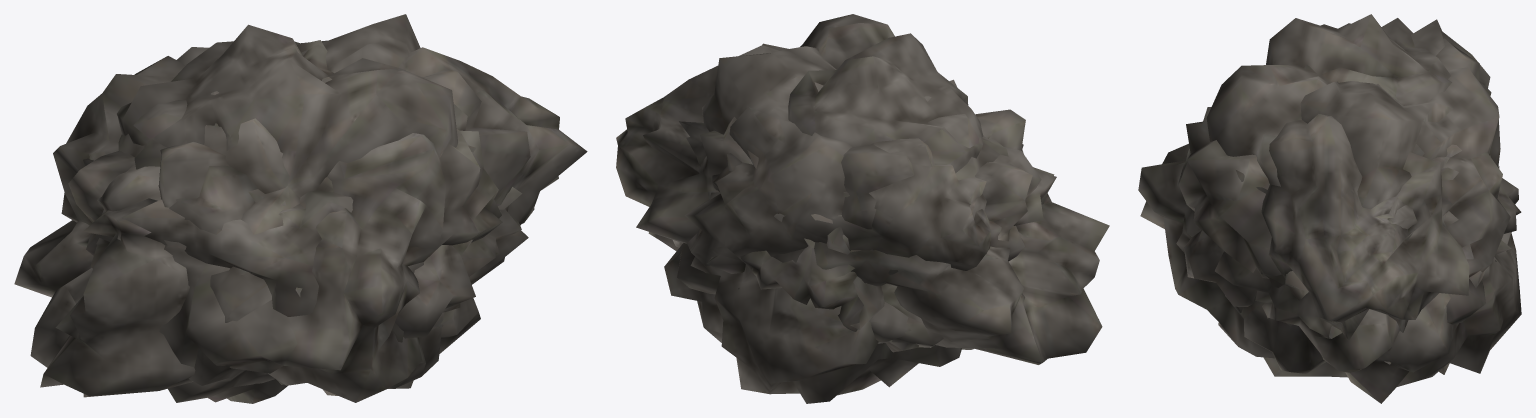
The model's file is rocks.glb.
3 renders of one model, left to right at view 1: azimuth 30°, elevation 25°; view 2: azimuth 150°, elevation 25°; view 3: azimuth 270°, elevation 25°, orthographic. The views are drawn at different scales.
Visible parts, largest first — view 1: rock3, rock2, rock1, rock0; view 2: rock2, rock0, rock1, rock3; view 3: rock2, rock1, rock0, rock3.
Boxes of the visible parts, bbox=[...] form: rock3: bbox=[83, 56, 502, 402]; rock2: bbox=[14, 47, 587, 397]; rock1: bbox=[117, 24, 475, 403]; rock0: bbox=[53, 14, 534, 402]; rock2: bbox=[616, 43, 1109, 364]; rock0: bbox=[648, 46, 1054, 352]; rock1: bbox=[664, 14, 983, 403]; rock3: bbox=[706, 79, 1023, 347]; rock2: bbox=[1215, 114, 1499, 373]; rock1: bbox=[1184, 14, 1521, 403]; rock0: bbox=[1255, 19, 1510, 372]; rock3: bbox=[1138, 23, 1521, 377].
Bounding box in the file's own units: 3.45 × 2.24 × 2.32.
1 material, 1 textured.
